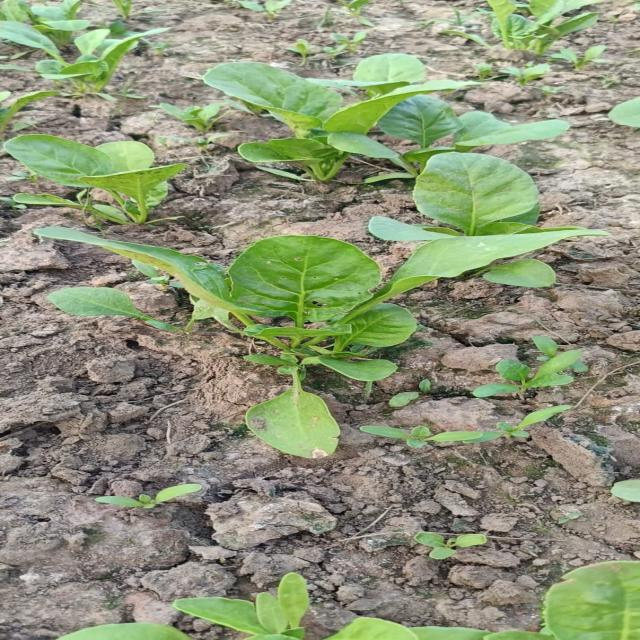plant: (35, 53, 602, 458), (48, 287, 176, 330)
